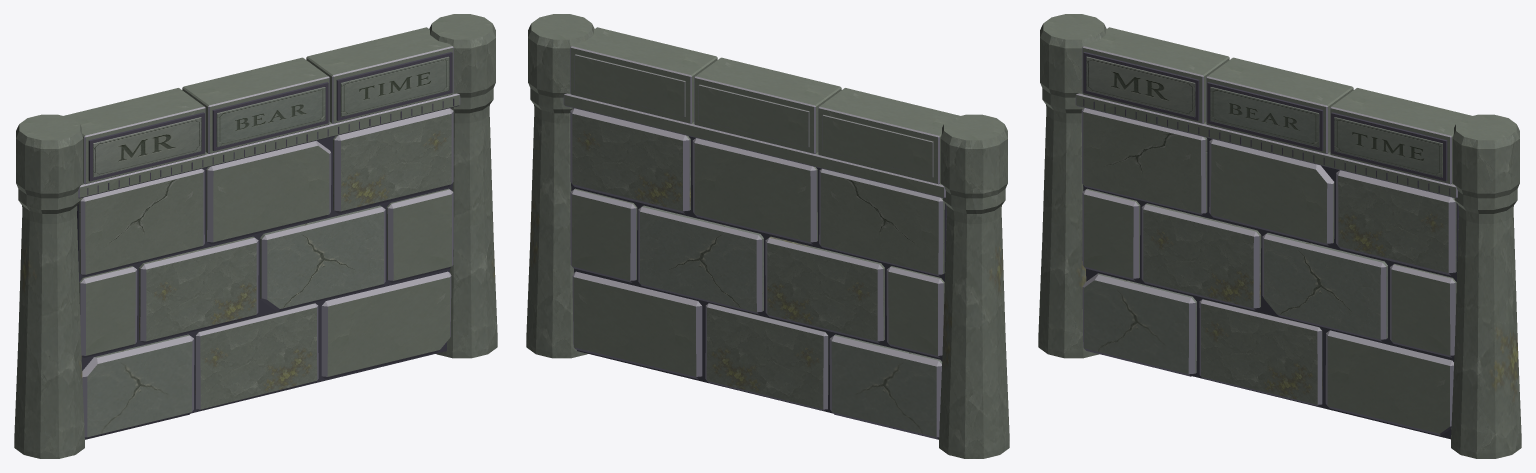
File: FIX_Wall002_2Side_Pillar.fbx
3 renders of one model, left to right at view 1: azimuth 30°, elevation 25°; view 2: azimuth 150°, elevation 25°; view 3: azimuth 330°, elevation 25°, orthographic.
Parts seen in each view (by area): view 1: WALL; view 2: WALL; view 3: WALL.
Part boxes in pixels (<box>): WALL: <box>14,14,497,458</box>; WALL: <box>526,14,1009,458</box>; WALL: <box>1038,14,1521,458</box>.
Bounding box in the file's own units: 344 × 220 × 44.43.
Materials: 15 (10 with a texture image).
